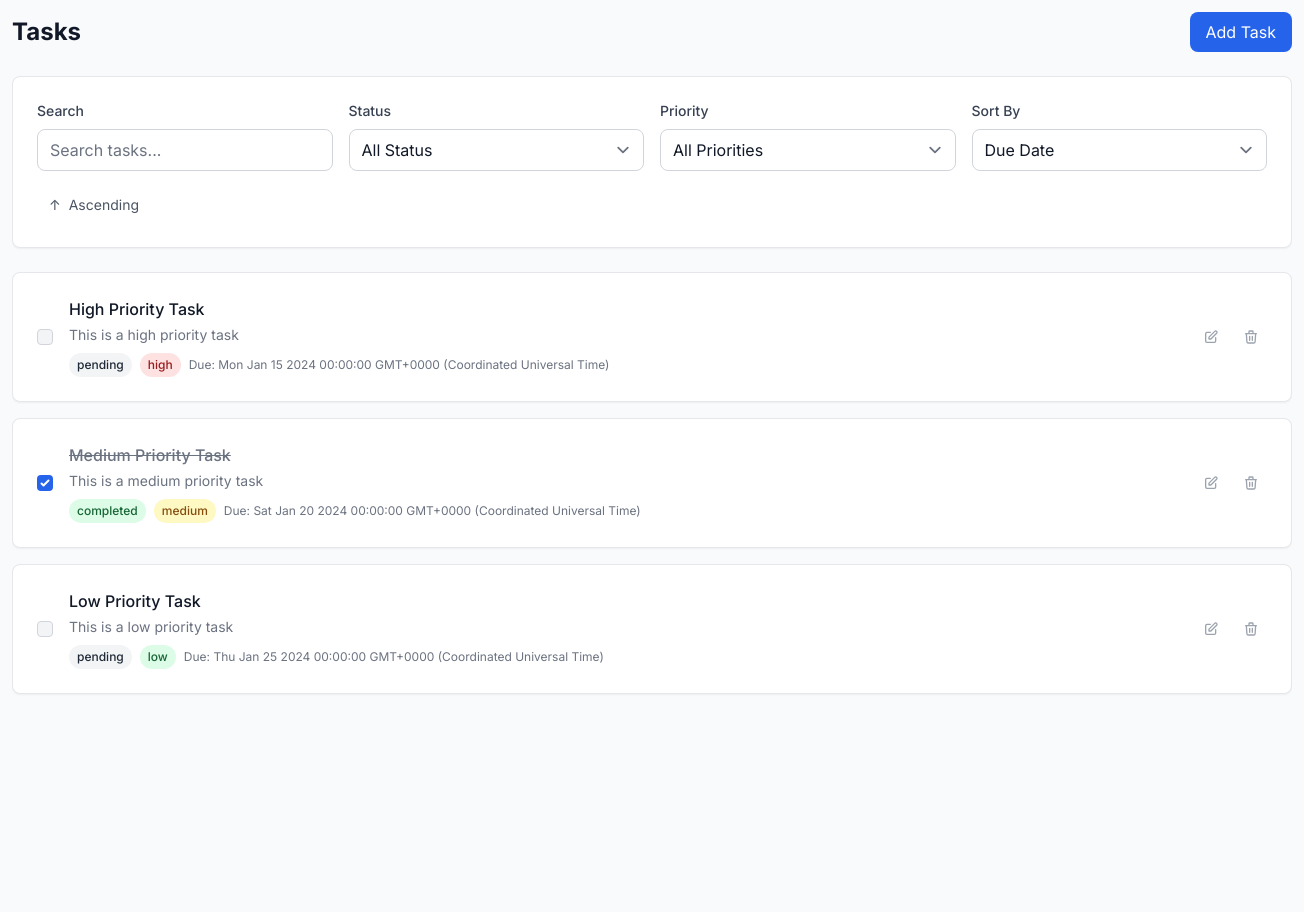
Test case: TaskList Component › Filtering › filters tasks by search term
Type "high" into the field with placeholder "Search tasks..." at (185, 150), box [37,129,332,171]
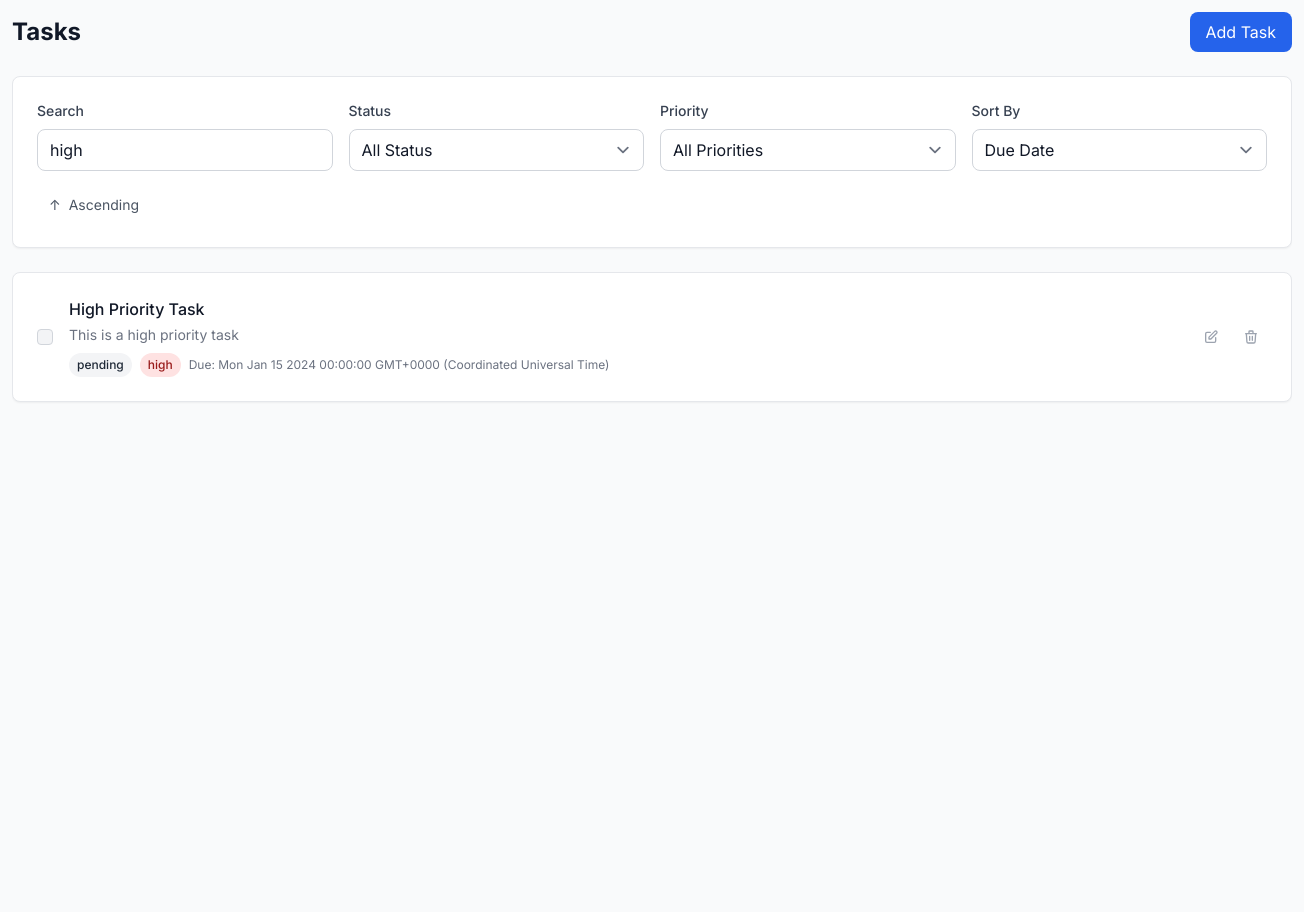
Expected: the heading "High Priority Task" is shown, [69,299,204,319]
Expected: the heading "Medium Priority Task" is gone
Expected: the heading "Low Priority Task" is gone
